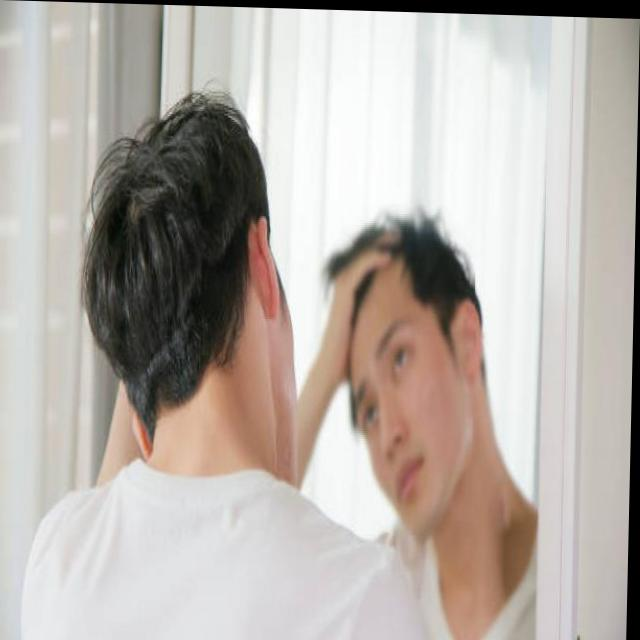no helmet: (72, 81, 280, 399)
